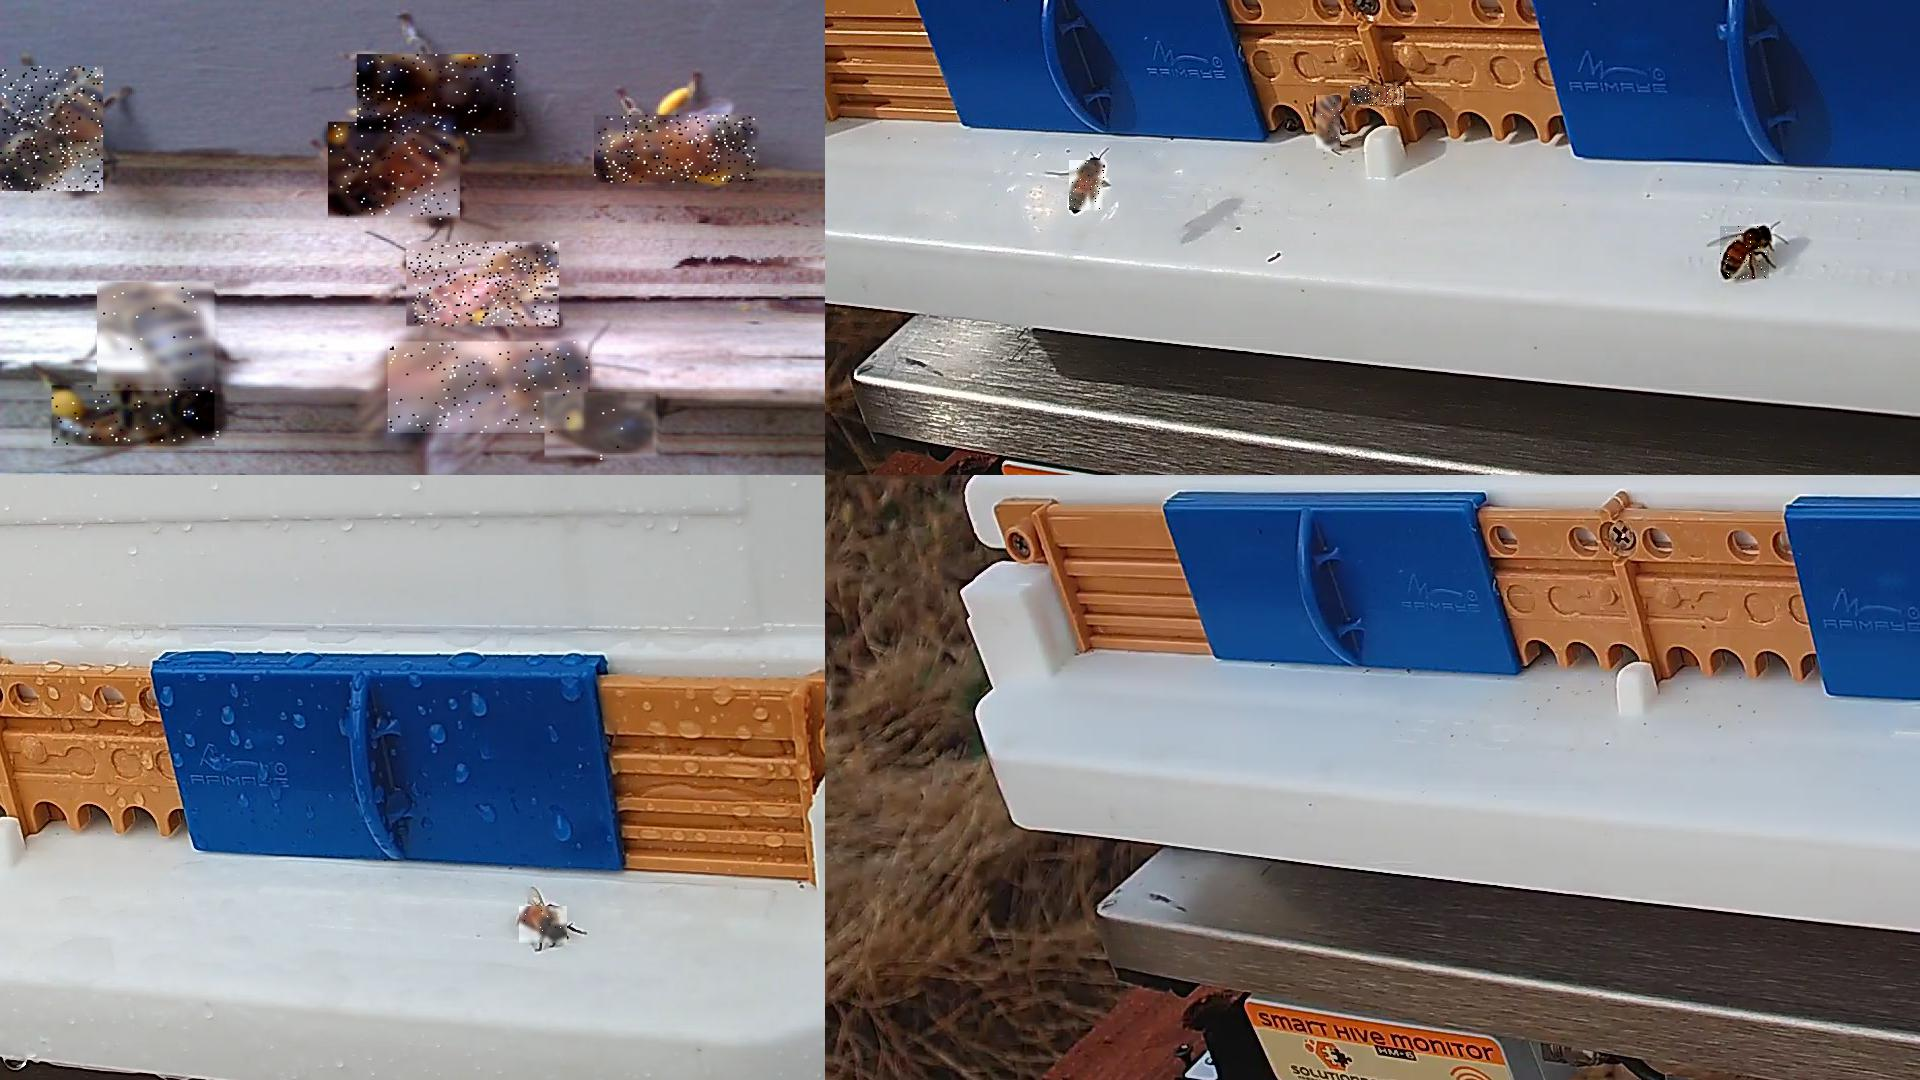bee: (388, 342, 591, 435), (328, 123, 462, 224), (0, 66, 105, 194), (407, 241, 562, 328), (99, 284, 220, 390), (546, 394, 663, 463), (1720, 225, 1770, 280), (520, 907, 568, 945)
pollenbee: (359, 55, 521, 138), (596, 115, 760, 185), (53, 386, 222, 448), (1069, 160, 1106, 211), (1316, 96, 1341, 152), (1350, 86, 1406, 105)
